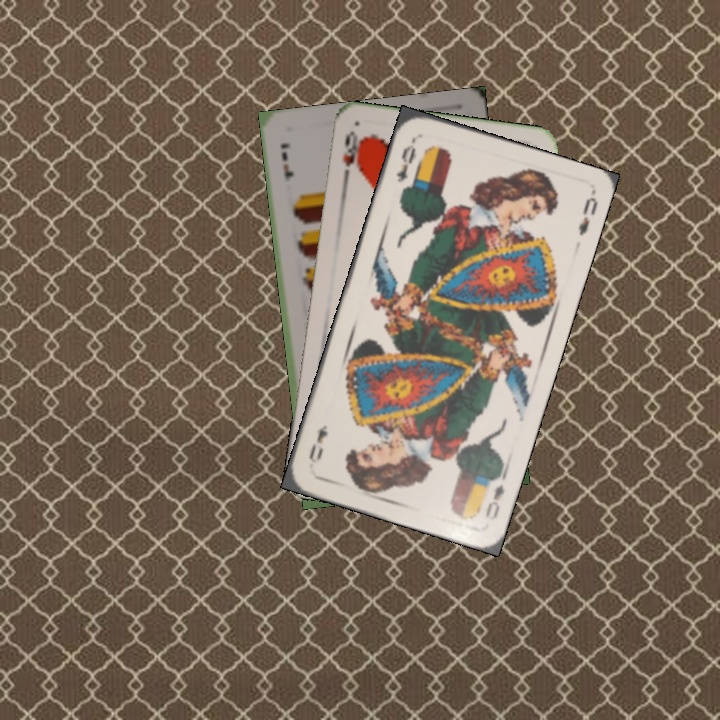E7: (276, 139, 296, 182)
EO: (481, 467, 509, 524), (391, 135, 419, 185)
HO: (339, 126, 364, 185)
